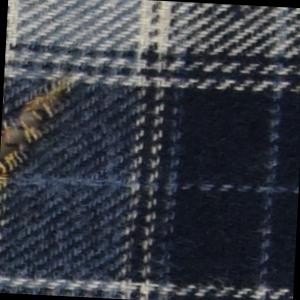Damage: (1, 62, 85, 201)
